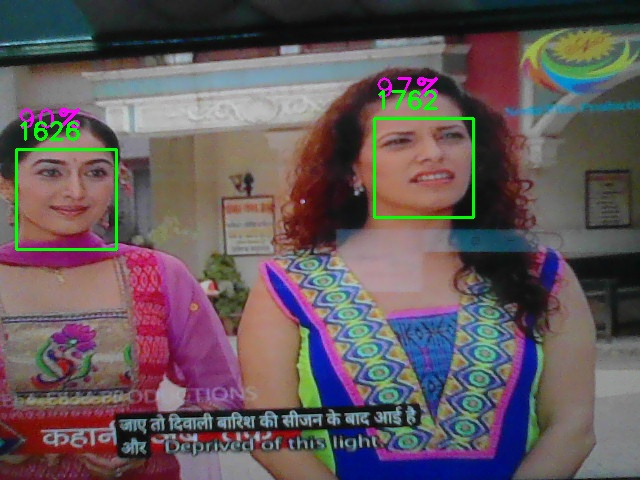fake: (16, 149, 117, 250), (374, 118, 474, 218)
